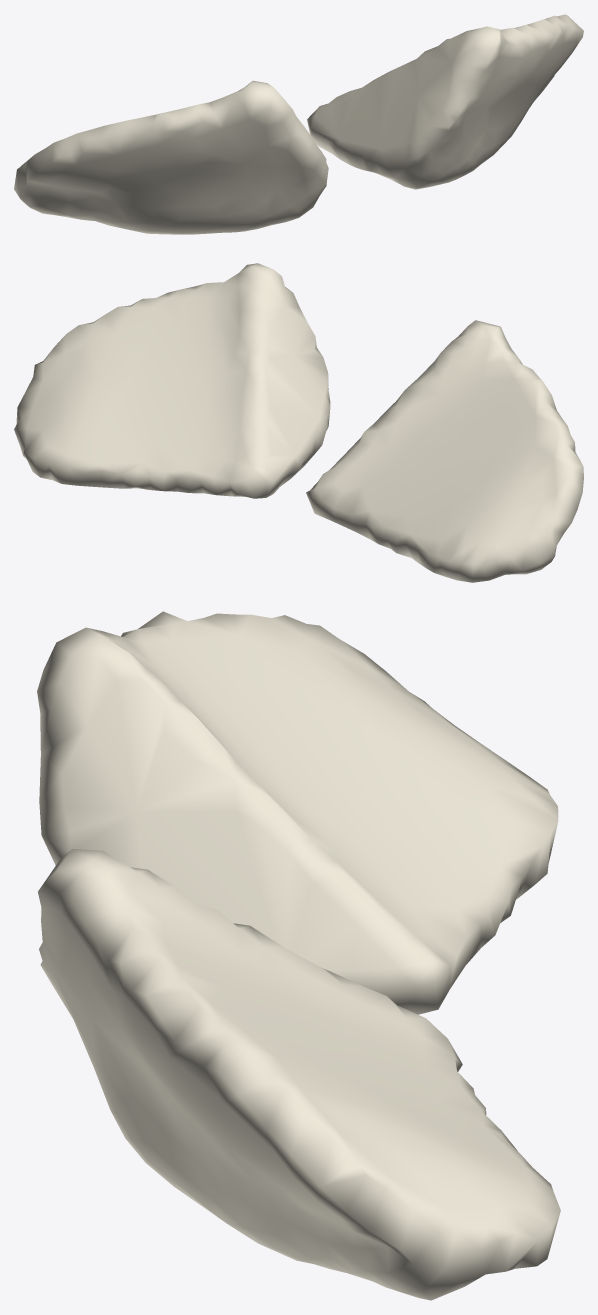
File: fma59426_mm907.glb
The picture shows the model from 3 angles, top to bottom: view 1: azimuth 30°, elevation 25°; view 2: azimuth 150°, elevation 25°; view 3: azimuth 270°, elevation 25°; orthographic projection. The views are drawn at different scales.
Visible parts, largest first — view 1: FMA59426_MM907; view 2: FMA59426_MM907; view 3: FMA59426_MM907.
Part boxes in pixels (left/top/right/bottom): FMA59426_MM907: left=14, top=14, right=583, bottom=234; FMA59426_MM907: left=14, top=263, right=583, bottom=582; FMA59426_MM907: left=37, top=611, right=560, bottom=1300.
Size of the model in its own units: 0.0186 by 0.00567 by 0.00777.
